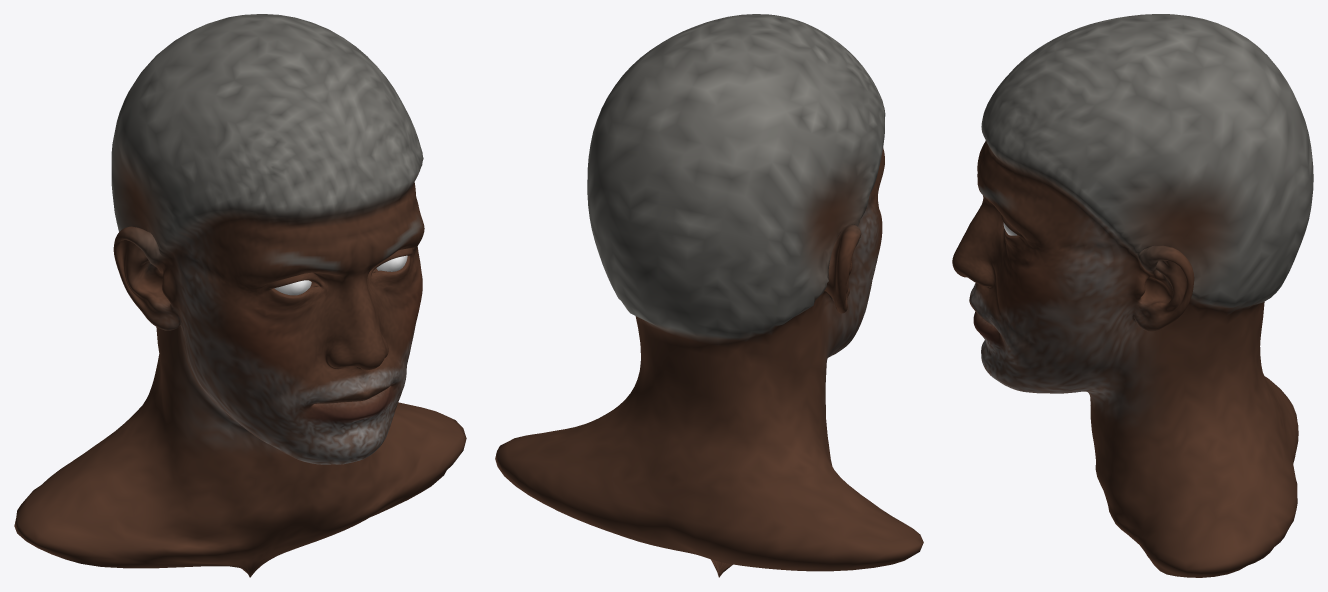
File: mann.glb
3 renders of one model, left to right at view 1: azimuth 30°, elevation 25°; view 2: azimuth 150°, elevation 25°; view 3: azimuth 270°, elevation 25°, orthographic. The views are drawn at different scales.
Parts seen in each view (by area): view 1: head; view 2: head; view 3: head.
Boxes of the visible parts, x1,y1,x2,y2 form: head: (14, 14, 466, 577); head: (495, 14, 923, 577); head: (952, 14, 1313, 577).
Size of the model in its own units: 0.3039 by 0.3714 by 0.2304.
